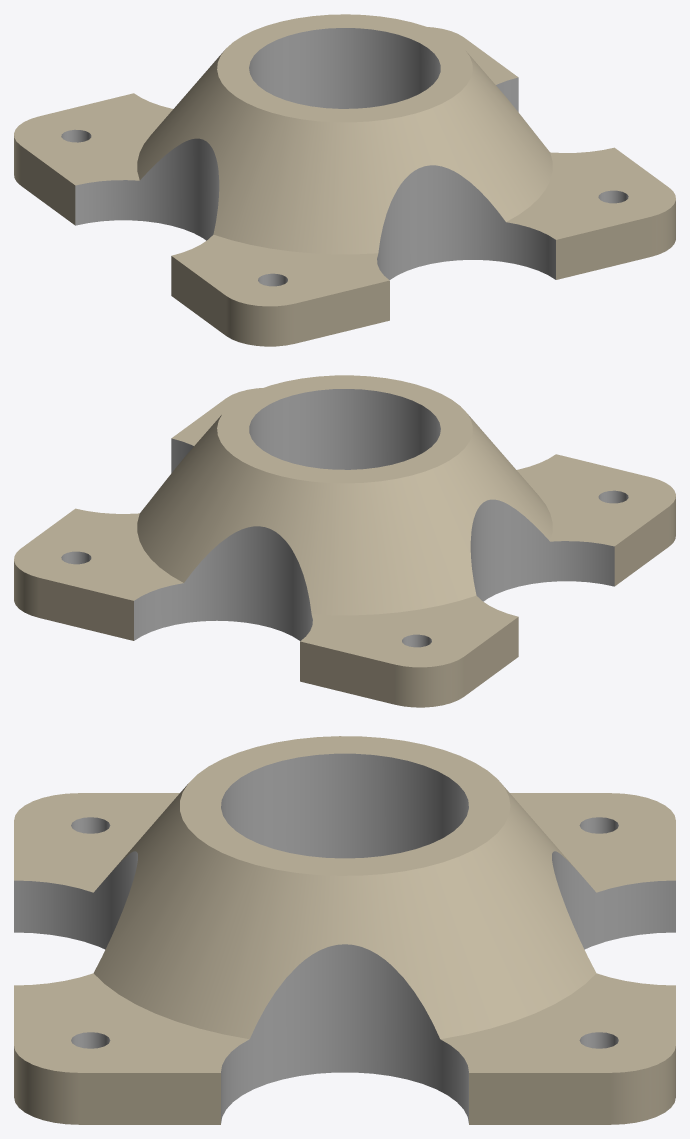
The model's file is WindTurbine.obj.
3 renders of one model, top to bottom at view 1: azimuth 30°, elevation 25°; view 2: azimuth 150°, elevation 25°; view 3: azimuth 270°, elevation 25°, orthographic. The views are drawn at different scales.
Visible parts, largest first — view 1: Solid1; view 2: Solid1; view 3: Solid1.
Boxes of the visible parts, <box> form: Solid1: <box>14,14,675,346</box>; Solid1: <box>14,375,675,707</box>; Solid1: <box>14,736,675,1124</box>.
Size of the model in its own units: 102 by 30.3 by 102.
